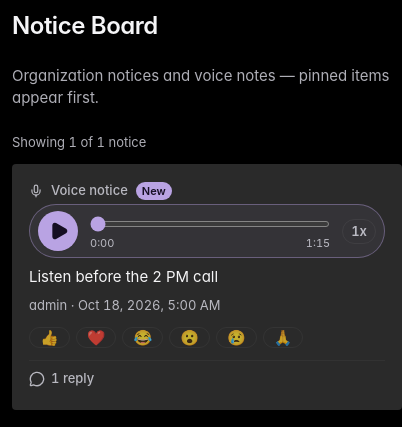
NoticeBoardPage voice notices › member plays a new voice notice and it is recorded as played
Check: the text "New" is shown, box [136,182,172,200]
Check: the text "1:15" is shown, box [306,235,330,251]
Click the button named "Play voice note": (58, 231) [38,211,78,251]
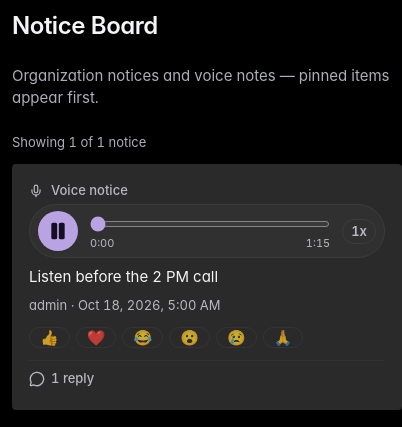
Check: the text "New" is gone
